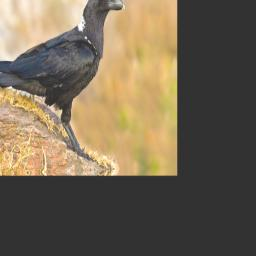Crow: (0, 0, 129, 166)
